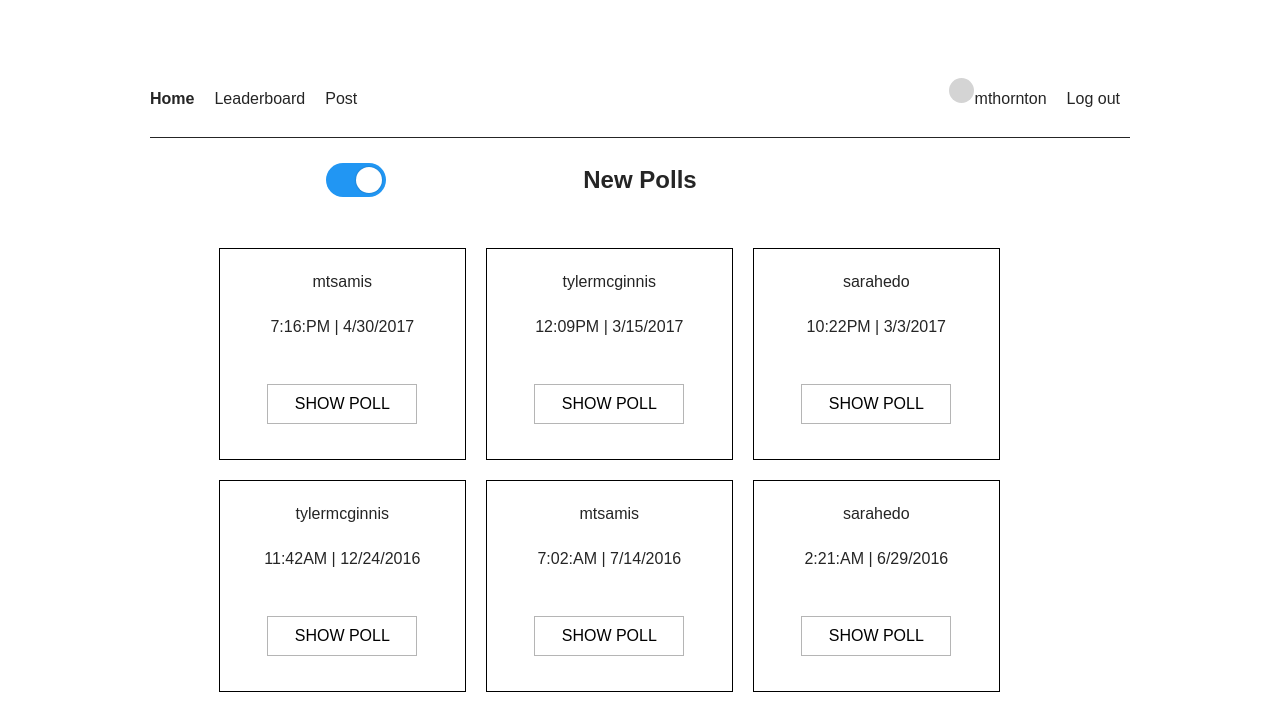
render to snapshot
Click the link "Post" at x=341, y=98, box [325,90,357,107]
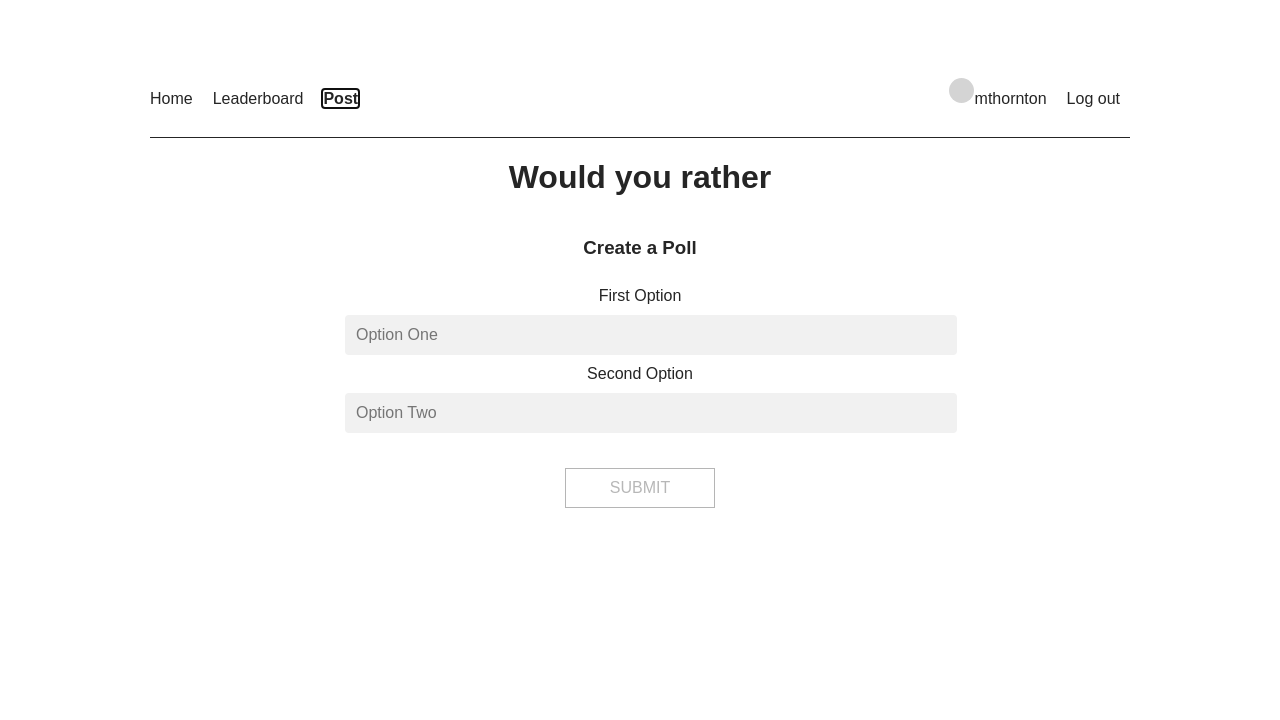
Expected: the heading "Would you rather" is shown, [509,159,771,196]
Expected: the heading "Create a Poll" is shown, [583,237,697,259]
Expected: the field labelled "First Option" is shown, [345,315,957,355]
